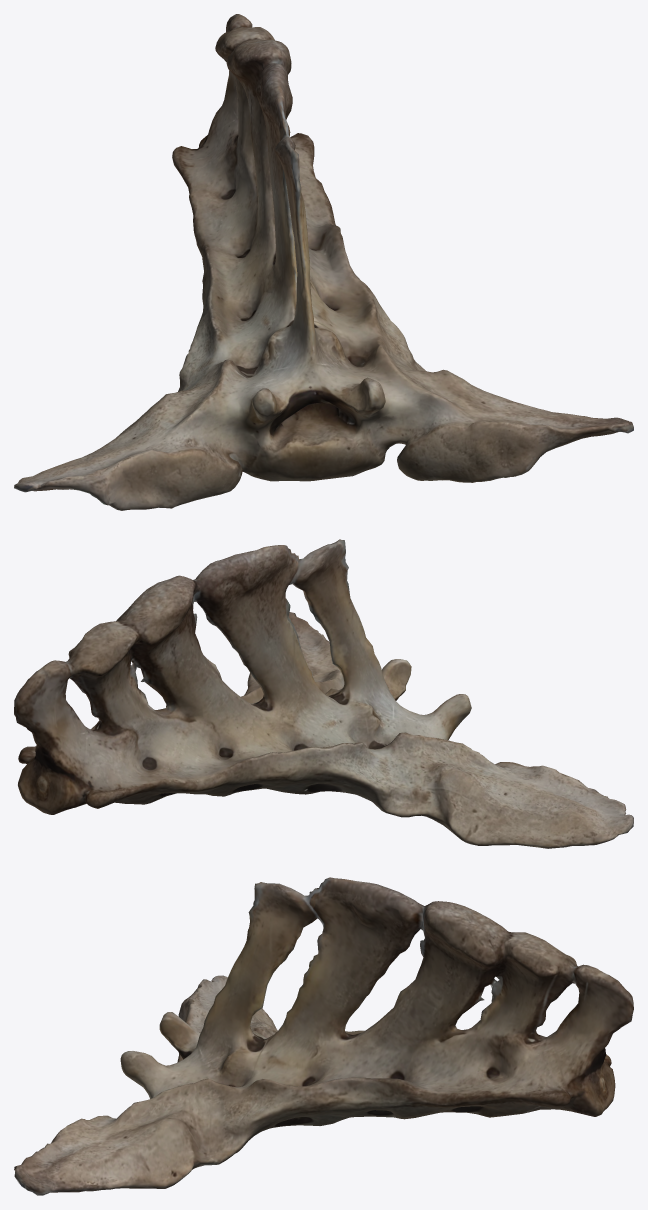
The model's file is sacro-equino.glb.
The picture shows the model from 3 angles, top to bottom: view 1: azimuth 30°, elevation 25°; view 2: azimuth 150°, elevation 25°; view 3: azimuth 270°, elevation 25°; orthographic projection. The views are drawn at different scales.
Visible parts, largest first — view 1: 3DModel_LowPoly; view 2: 3DModel_LowPoly; view 3: 3DModel_LowPoly.
Part boxes in pixels (left/top/right/bottom): 3DModel_LowPoly: left=14, top=14, right=633, bottom=510; 3DModel_LowPoly: left=14, top=539, right=633, bottom=848; 3DModel_LowPoly: left=14, top=877, right=633, bottom=1195.
Bounding box in the file's own units: 1.69 × 0.9925 × 1.96.
Materials: 1 (1 with a texture image).
